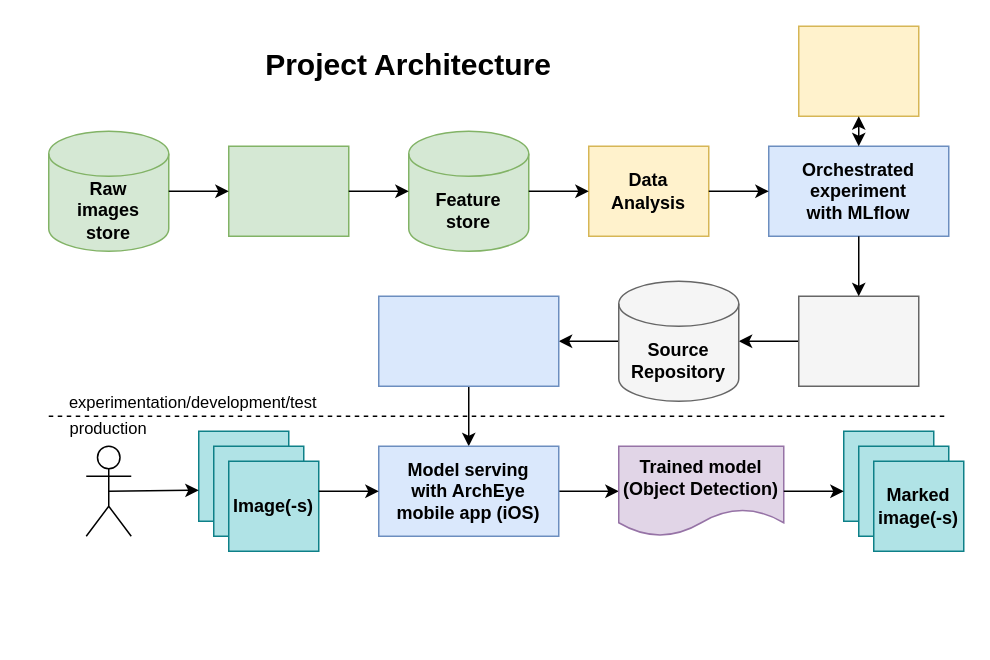
This 990x660 diagram has some shape labels left out. The centre of each missing label's shape, as x and y in pixels:
CI: Build, test pipeline components: (x=468, y=340)
Label images with CVAT: (x=288, y=190)
Model Analysis: (x=858, y=70)
Source code: (x=858, y=340)
User: wants to know the architectural style of the buildings in the photo: (x=108, y=490)
